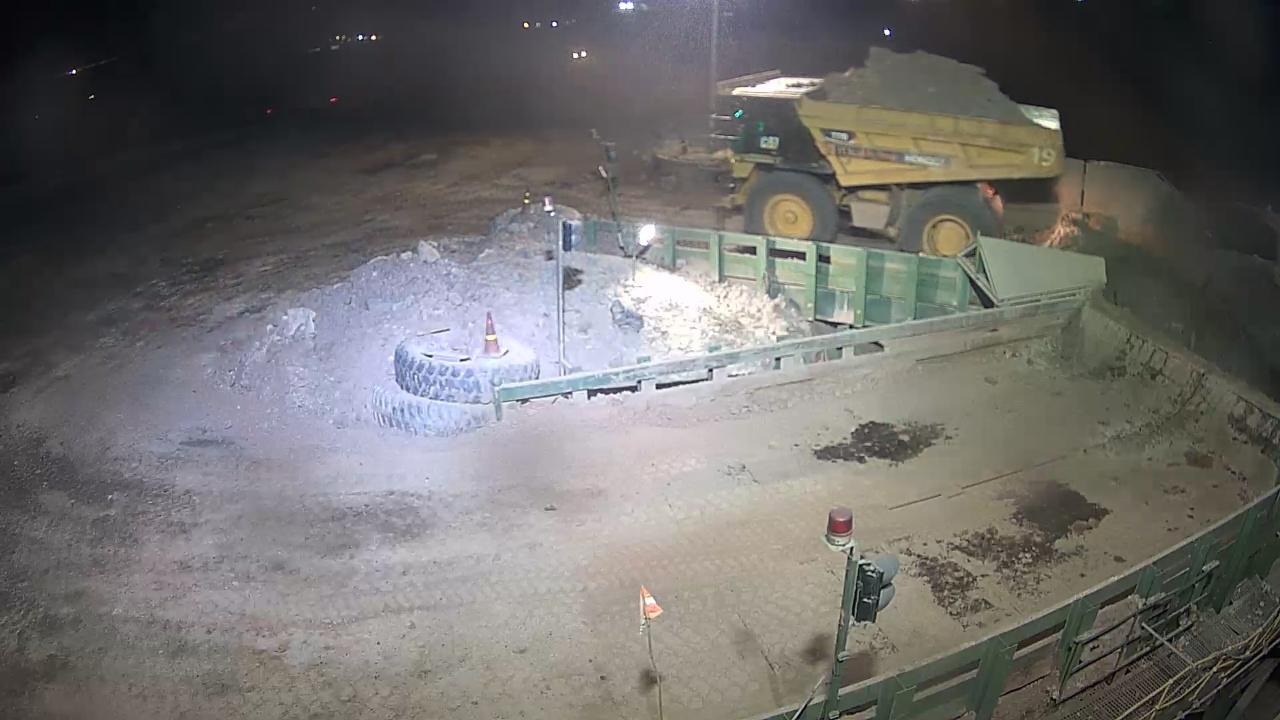full_load: (826, 52, 1047, 119)
mining_truck: (702, 43, 1067, 257)
tail_number: (1026, 142, 1056, 171)
